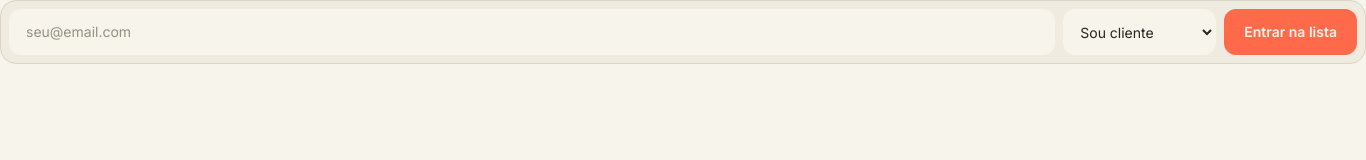
Test: WaitlistForm › shows an error message when the request fails
Step 1. Type "ana@example.com" into the field named "seu email" → (532, 32), box [9,9,1055,55]
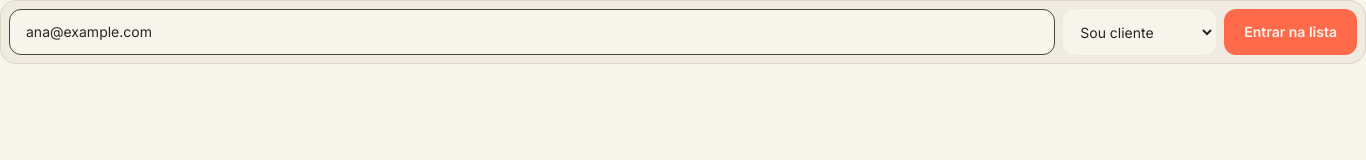
Step 2. Click the button "Entrar na lista" → (1291, 32), box [1224,9,1357,55]
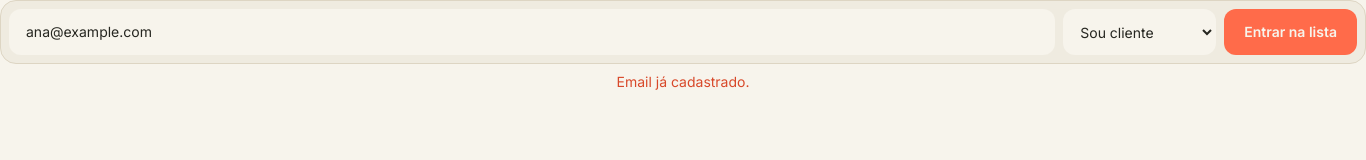
Check: the message reads "Email já cadastrado.", box [616,73,750,90]
